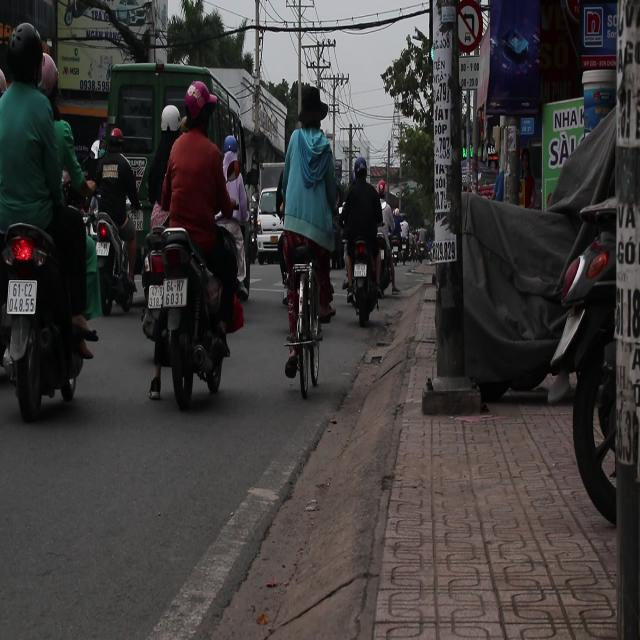motorbike: (1, 217, 95, 418), (137, 223, 233, 407), (86, 202, 139, 316), (342, 236, 385, 329)
truck: (103, 62, 247, 224), (254, 172, 284, 261)
